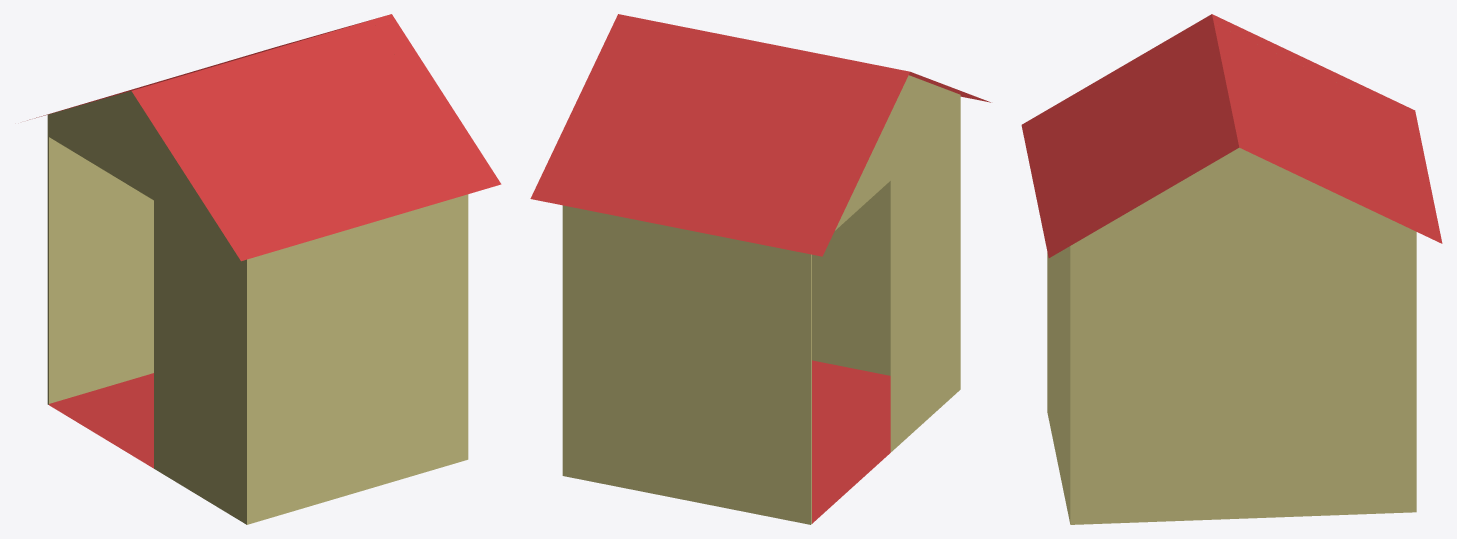
3 views of the same model, side by side, from view 1: azimuth 30°, elevation 25°; view 2: azimuth 150°, elevation 25°; view 3: azimuth 270°, elevation 25° (orthographic).
Parts seen in each view (by area): view 1: group_5, group_3, group_6, group_4; view 2: group_5, group_3, group_6, group_4; view 3: group_5, group_3, group_4.
Part boxes in pixels (bbox=[...]): group_5: bbox=[47, 91, 468, 524]; group_3: bbox=[50, 15, 501, 261]; group_6: bbox=[49, 373, 153, 468]; group_4: bbox=[27, 14, 421, 120]; group_5: bbox=[562, 75, 960, 524]; group_3: bbox=[530, 14, 896, 256]; group_6: bbox=[812, 360, 890, 523]; group_4: bbox=[715, 67, 990, 256]; group_5: bbox=[1047, 147, 1416, 524]; group_3: bbox=[1021, 14, 1442, 257]; group_4: bbox=[1153, 14, 1414, 186].
Size of the model in its own units: 11.04 by 13.28 by 13.27.
